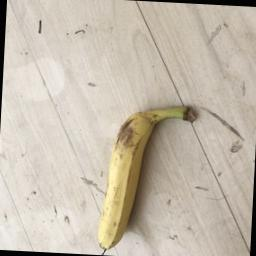Banana Ripe: (90, 93, 195, 256)
